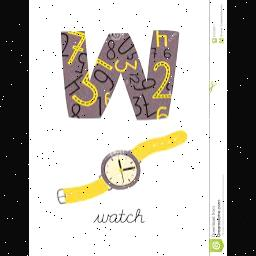w: (56, 25, 186, 123)
